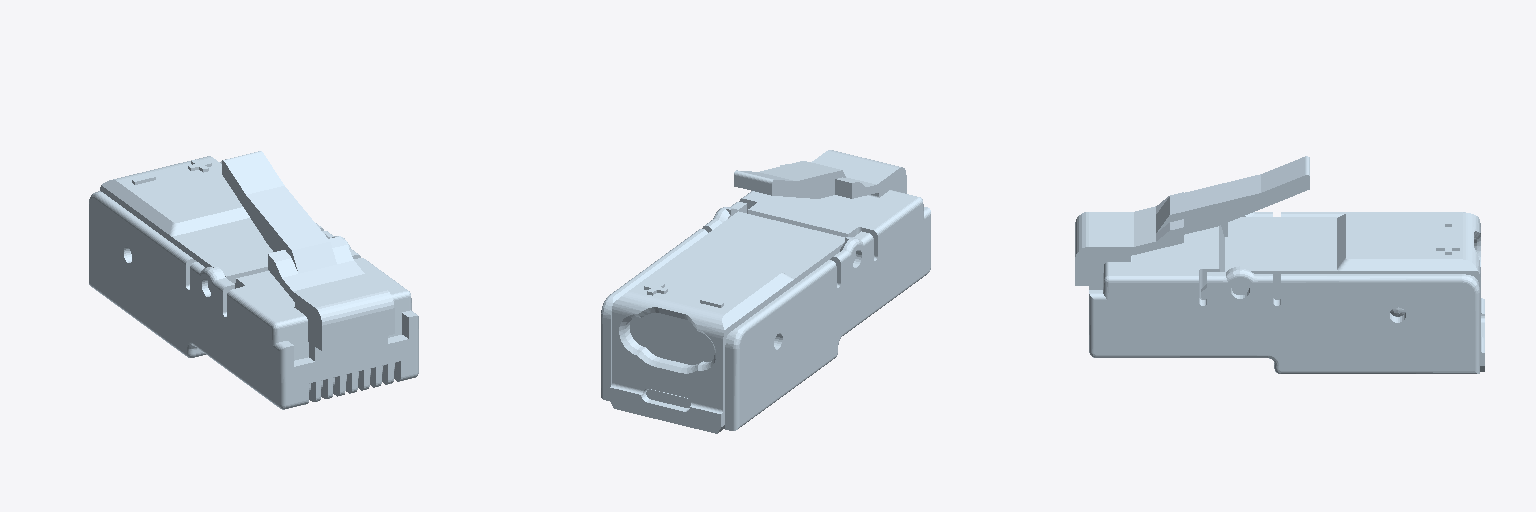
3 views of the same model, side by side, from view 1: azimuth 30°, elevation 25°; view 2: azimuth 150°, elevation 25°; view 3: azimuth 270°, elevation 25° (orthographic).
Parts seen in each view (by area): view 1: [number redacted]_[number redacted]-2_1; view 2: [number redacted]_[number redacted]-2_1; view 3: [number redacted]_[number redacted]-2_1.
Boxes of the visible parts, x1,y1,x2,y2 form: [number redacted]_[number redacted]-2_1: [89, 151, 418, 409]; [number redacted]_[number redacted]-2_1: [601, 150, 930, 433]; [number redacted]_[number redacted]-2_1: [1075, 156, 1484, 373].
Size of the model in its own units: 11.68 by 14.58 by 29.9.